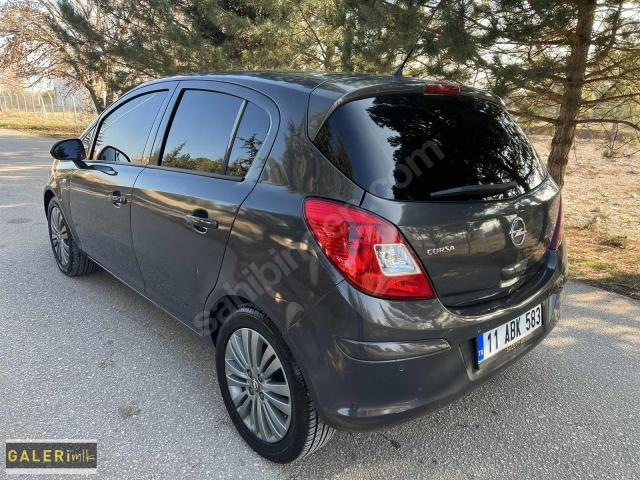plaka: (476, 304, 542, 367)
